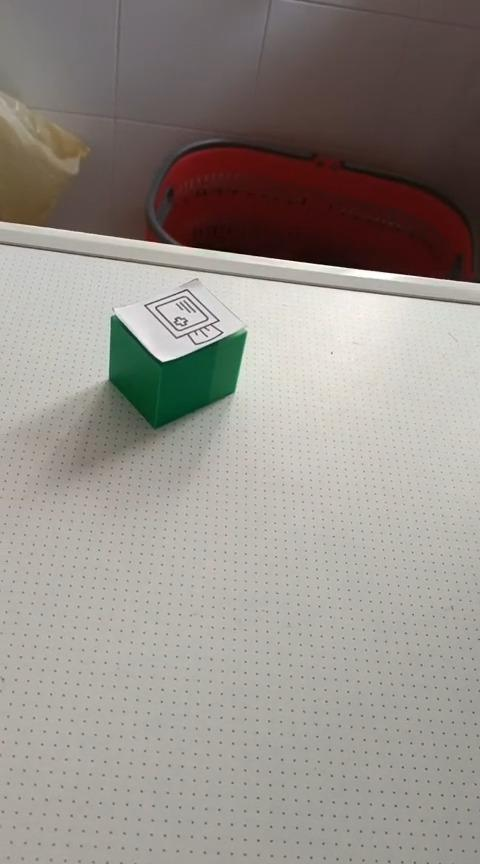Gauze: (107, 276, 247, 429)
